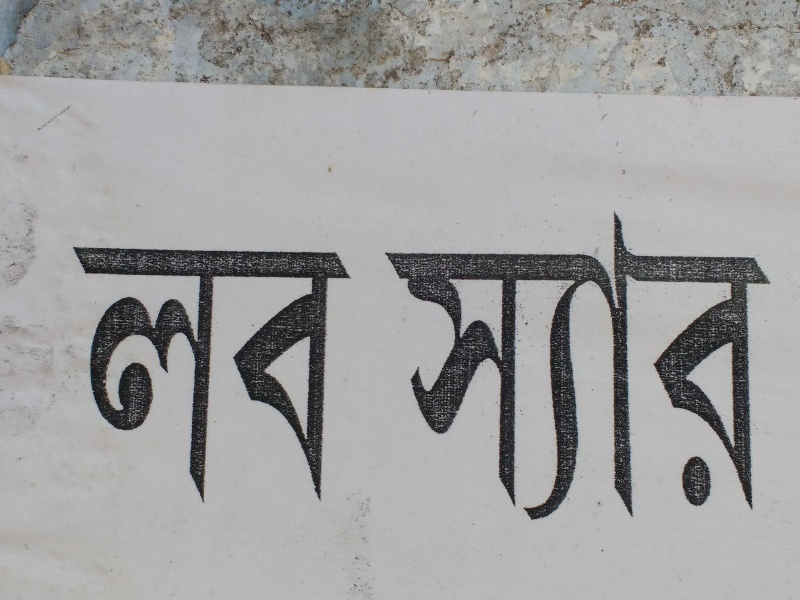text: (385, 200, 400, 525), (401, 200, 416, 525), (417, 200, 432, 525), (433, 200, 448, 525), (449, 200, 464, 525), (465, 200, 480, 525), (481, 200, 496, 525), (497, 200, 512, 525), (513, 200, 528, 525), (529, 200, 544, 525), (545, 200, 560, 525), (561, 200, 576, 525), (577, 200, 592, 525), (593, 200, 608, 525), (609, 200, 624, 525), (625, 200, 640, 525), (641, 200, 656, 525), (657, 200, 672, 525), (673, 200, 688, 525), (689, 200, 704, 525), (705, 200, 720, 525), (721, 200, 736, 525), (737, 200, 752, 525), (753, 200, 768, 525), (81, 241, 96, 509), (97, 241, 112, 509), (113, 241, 128, 509), (129, 241, 144, 509), (145, 241, 160, 509), (161, 241, 176, 509), (177, 241, 192, 509), (193, 241, 208, 509), (209, 241, 224, 509), (225, 241, 240, 509), (241, 241, 256, 509), (257, 241, 272, 509), (273, 241, 288, 509), (289, 241, 304, 509), (305, 241, 320, 509), (321, 241, 336, 509), (337, 241, 352, 509), (70, 241, 80, 509), (380, 200, 384, 525), (353, 241, 357, 509), (769, 200, 772, 525)
